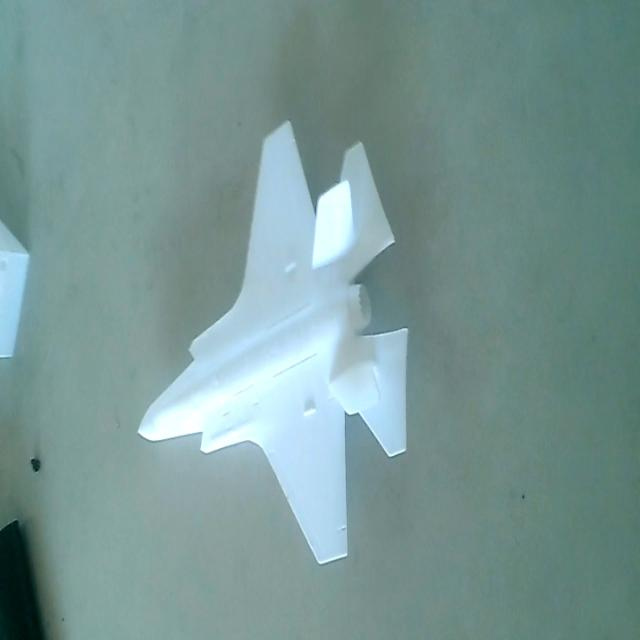Jet: (133, 111, 415, 571)
